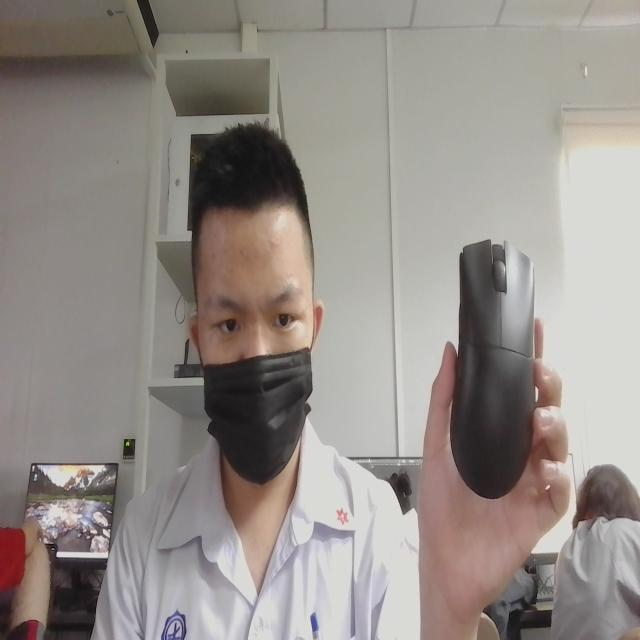mouse: (438, 214, 558, 516)
